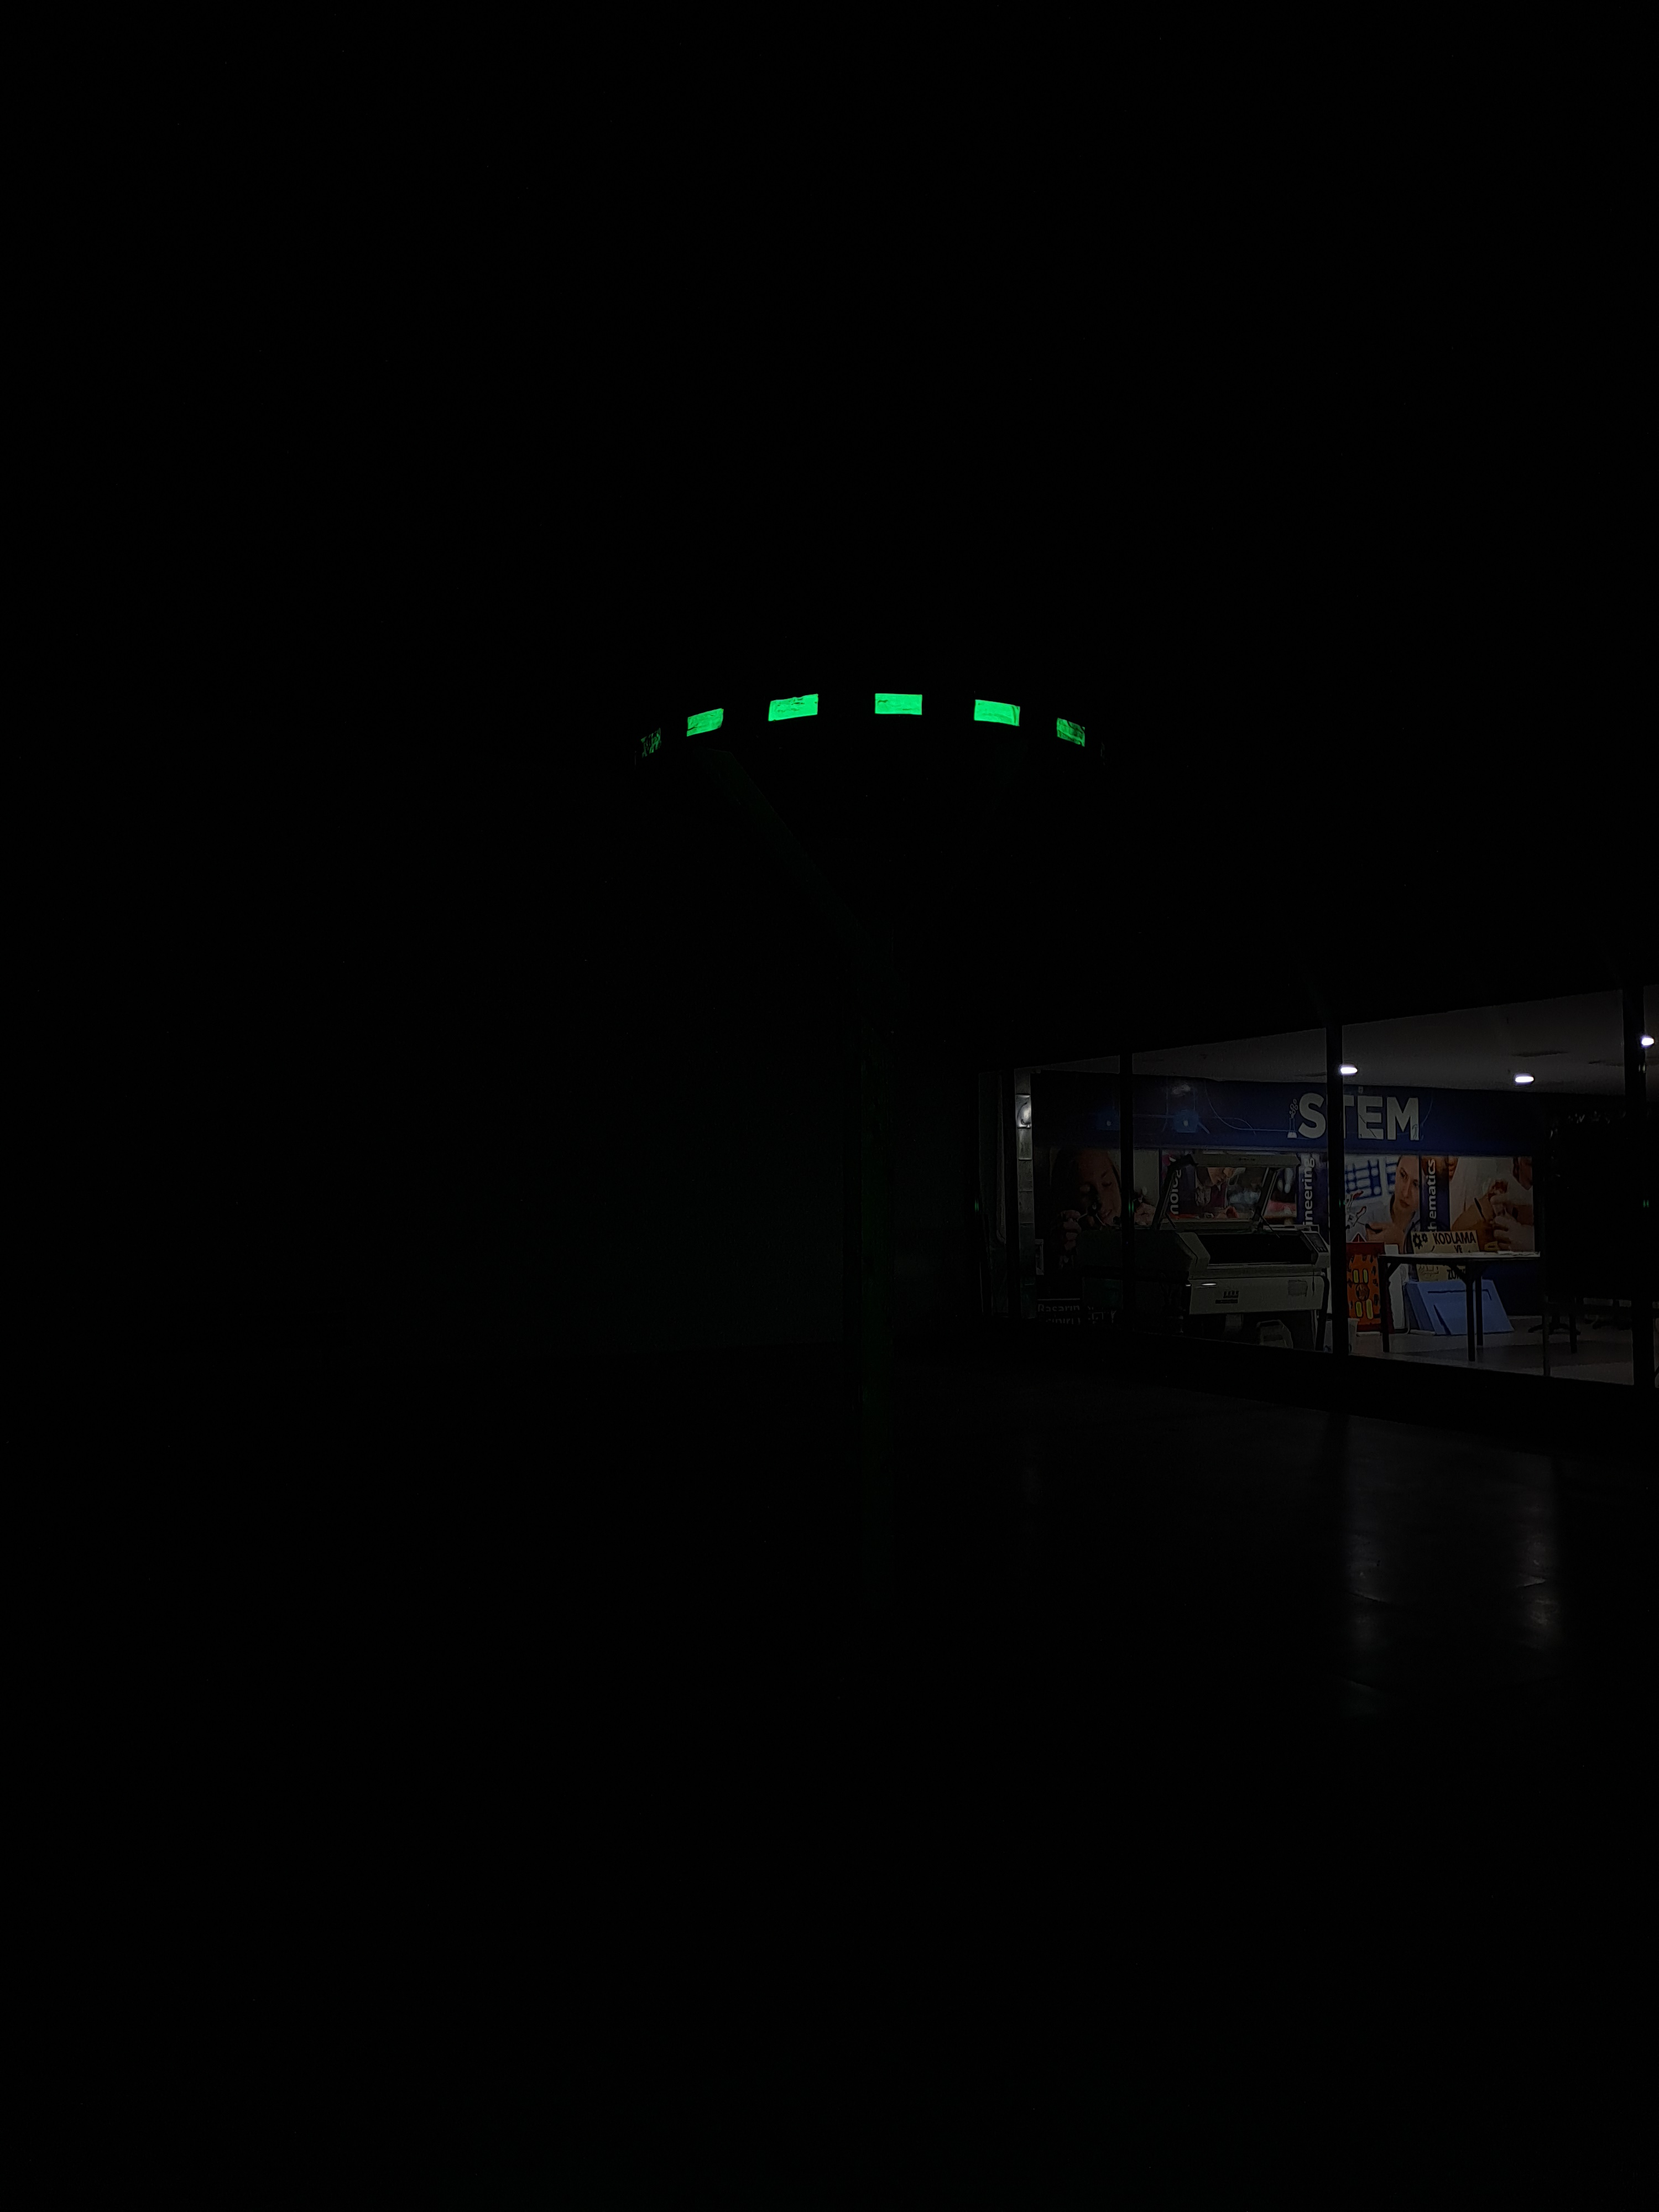hoop: (674, 686, 1091, 758)
